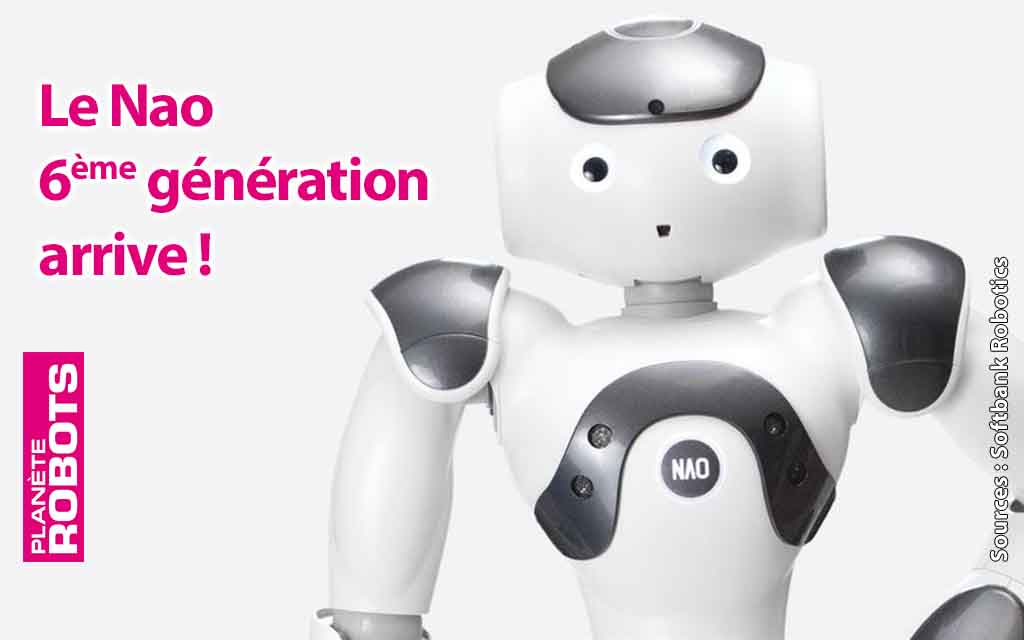nao: (311, 13, 997, 640)
